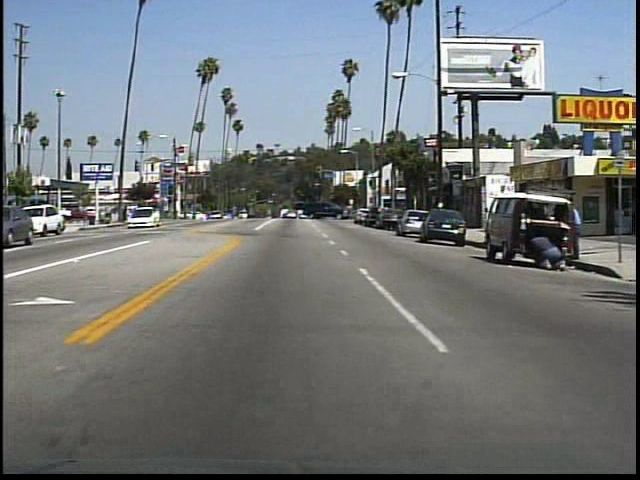person: (524, 229, 564, 274), (564, 202, 583, 261)
